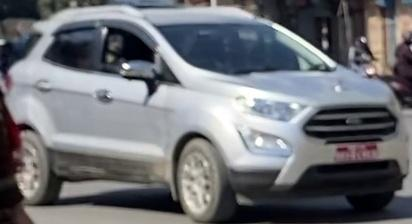license-plate: (330, 144, 385, 166)
